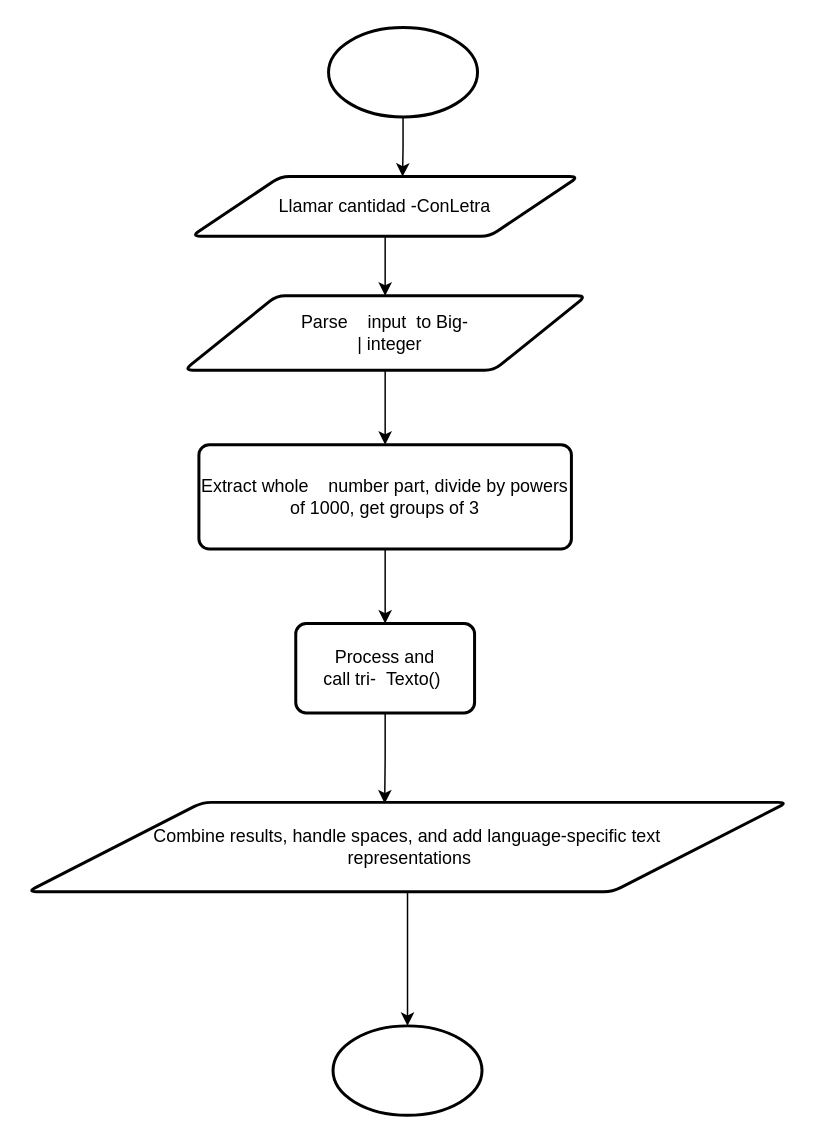
Image size: 814x1141. Some labels were removed from this diagram. Each missing label, with the centre of its shape:
"End" goes at pixel 407 1070.
"Start" goes at pixel 402 71.
